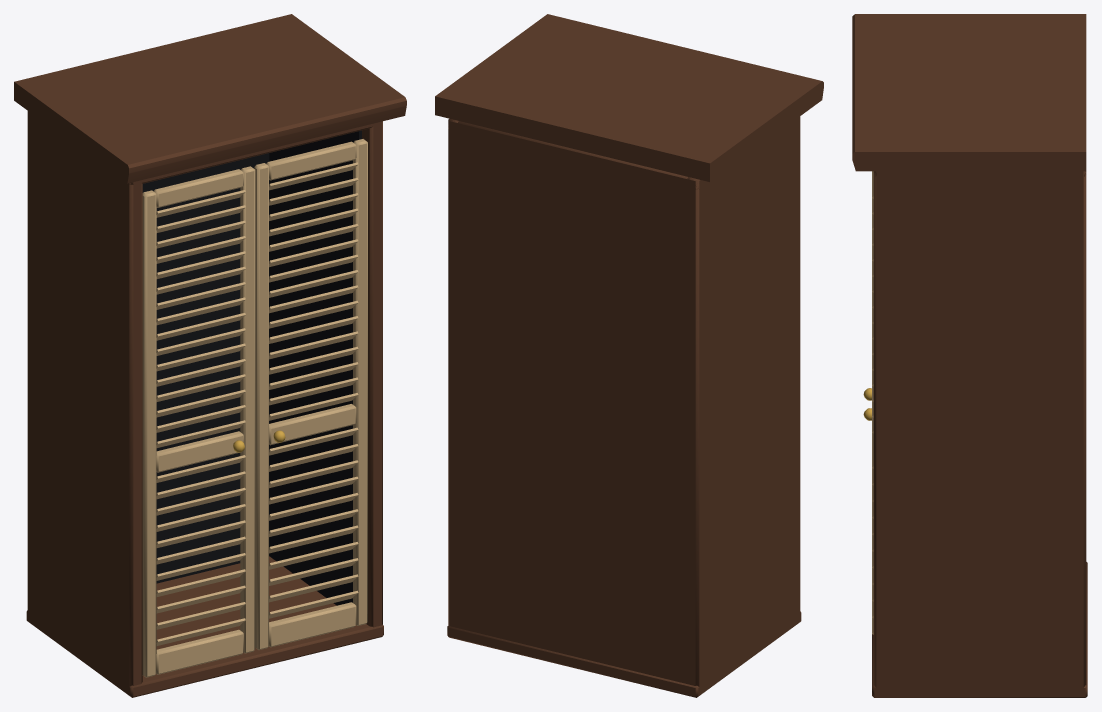
Rendered from Shop_PantryCloset.fbx.
3 renders of one model, left to right at view 1: azimuth 30°, elevation 25°; view 2: azimuth 150°, elevation 25°; view 3: azimuth 270°, elevation 25°, orthographic. The views are drawn at different scales.
Parts seen in each view (by area): view 1: Carcass, Gloom, DoorL, DoorR; view 2: Carcass; view 3: Carcass, DoorR.
Part boxes in pixels (x1,y1,x2,y2): Carcass: [14, 14, 406, 697]; Gloom: [142, 130, 361, 605]; DoorL: [142, 166, 255, 677]; DoorR: [254, 139, 367, 649]; Carcass: [435, 14, 823, 697]; Carcass: [852, 14, 1087, 697]; DoorR: [872, 171, 873, 634].
Size of the model in its own units: 460 by 860 by 332.
